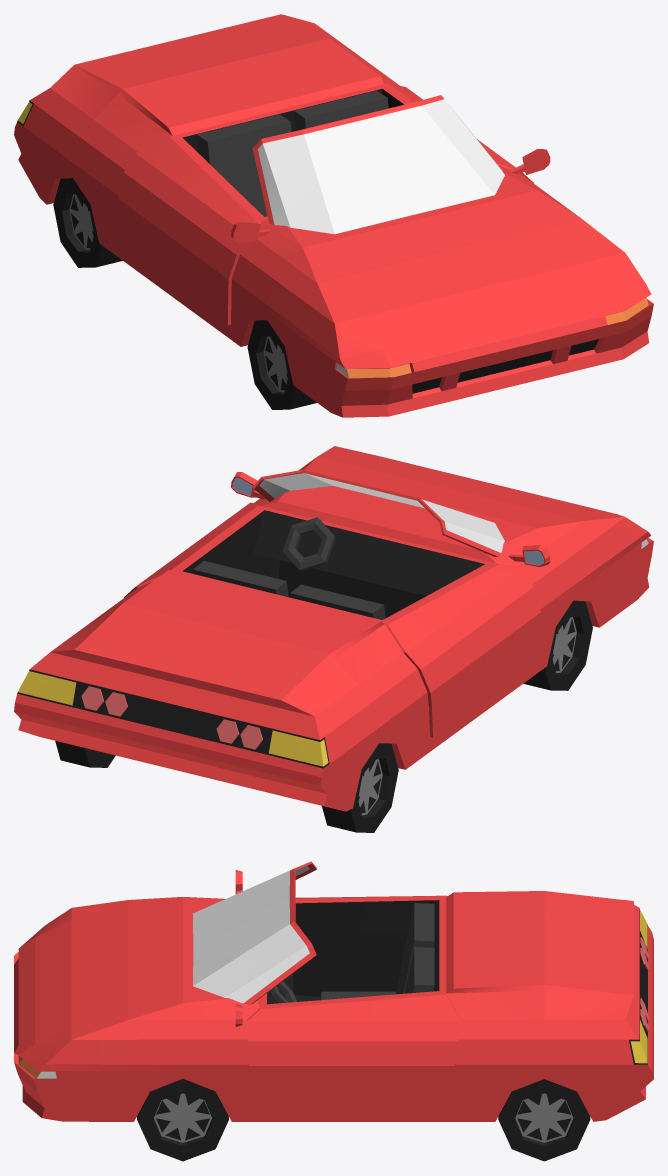
Rendered from open_car.fbx.
The picture shows the model from 3 angles, top to bottom: view 1: azimuth 30°, elevation 25°; view 2: azimuth 150°, elevation 25°; view 3: azimuth 270°, elevation 25°; orthographic projection. The views are drawn at different scales.
Visible parts, largest first — view 1: open_car; view 2: open_car; view 3: open_car.
Part boxes in pixels (x1,y1,x2,y2): open_car: (14, 14, 653, 417); open_car: (14, 446, 653, 832); open_car: (14, 861, 653, 1161).
Size of the model in its own units: 9.47 by 6.12 by 17.79.
1 material, 1 textured.
